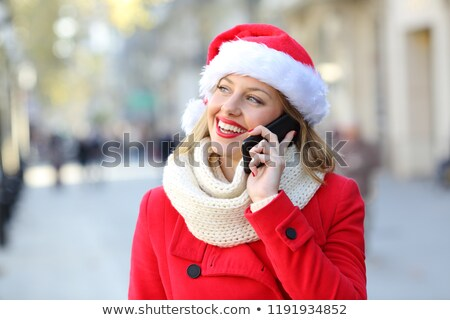phone: (248, 111, 308, 167)
talk: (210, 76, 313, 189)
